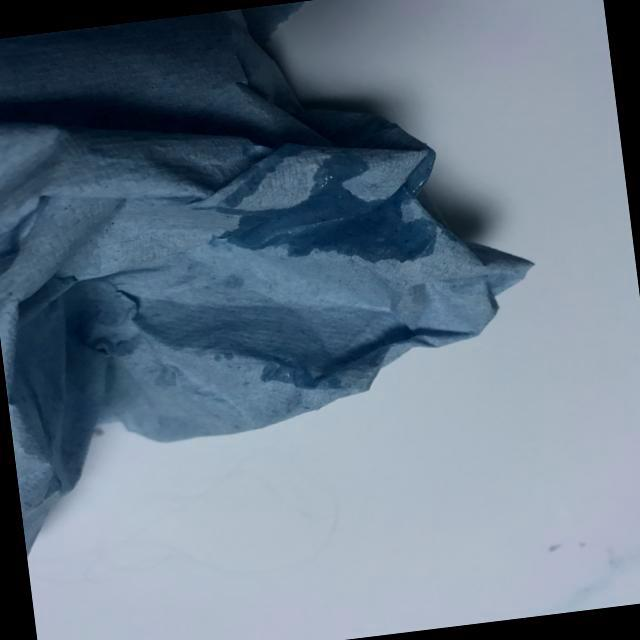paper: (0, 0, 595, 602)
